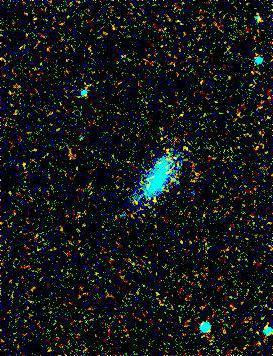star: (137, 187, 167, 217)
